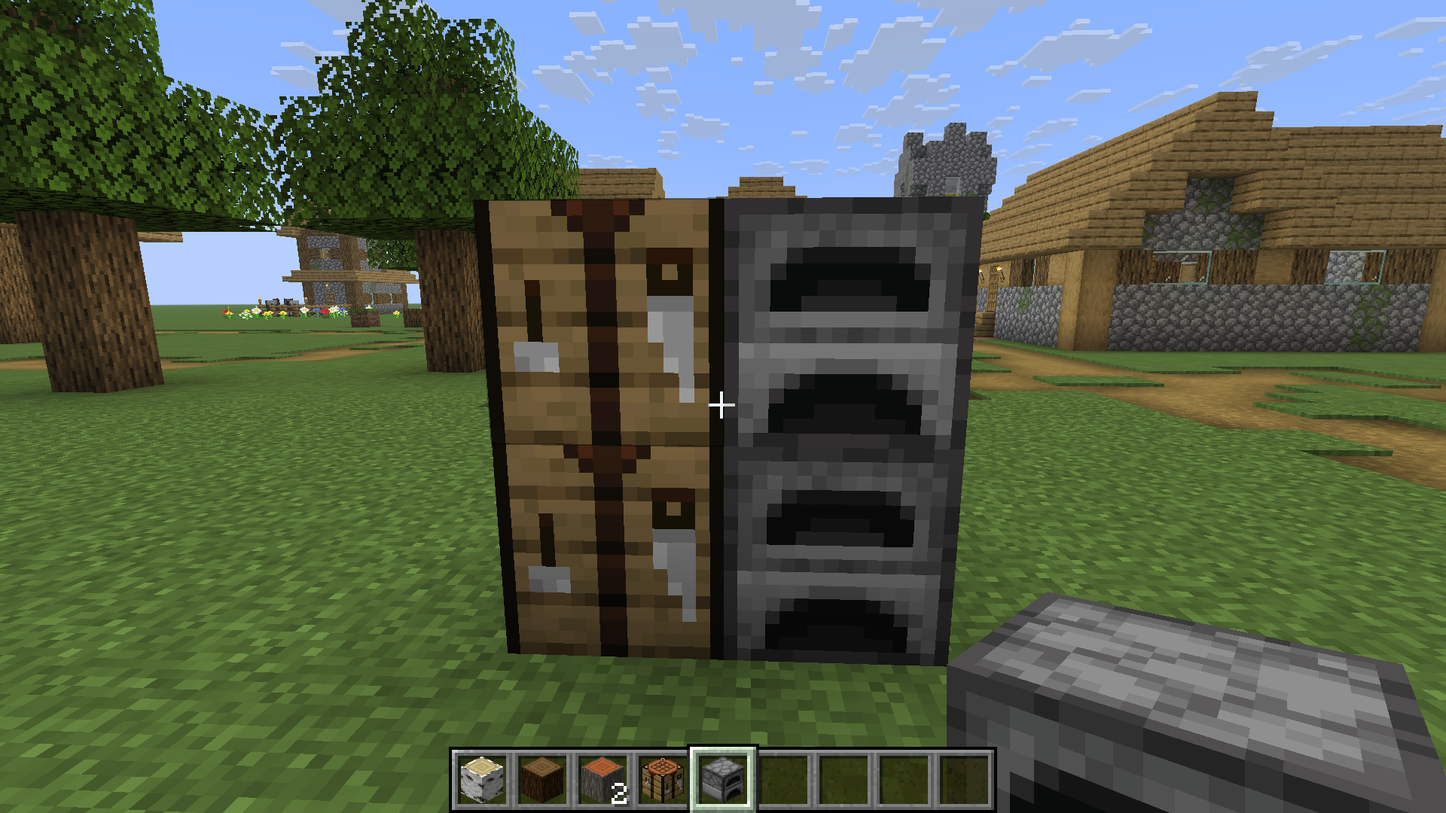Tree: (275, 0, 582, 369), (0, 0, 281, 394)
cablestone: (1111, 282, 1182, 349)
stove: (724, 199, 981, 448), (723, 442, 960, 662)
verstak: (478, 198, 722, 442), (500, 441, 724, 660)
